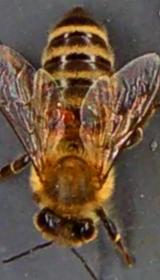varroa_mite: (42, 102, 78, 134)
